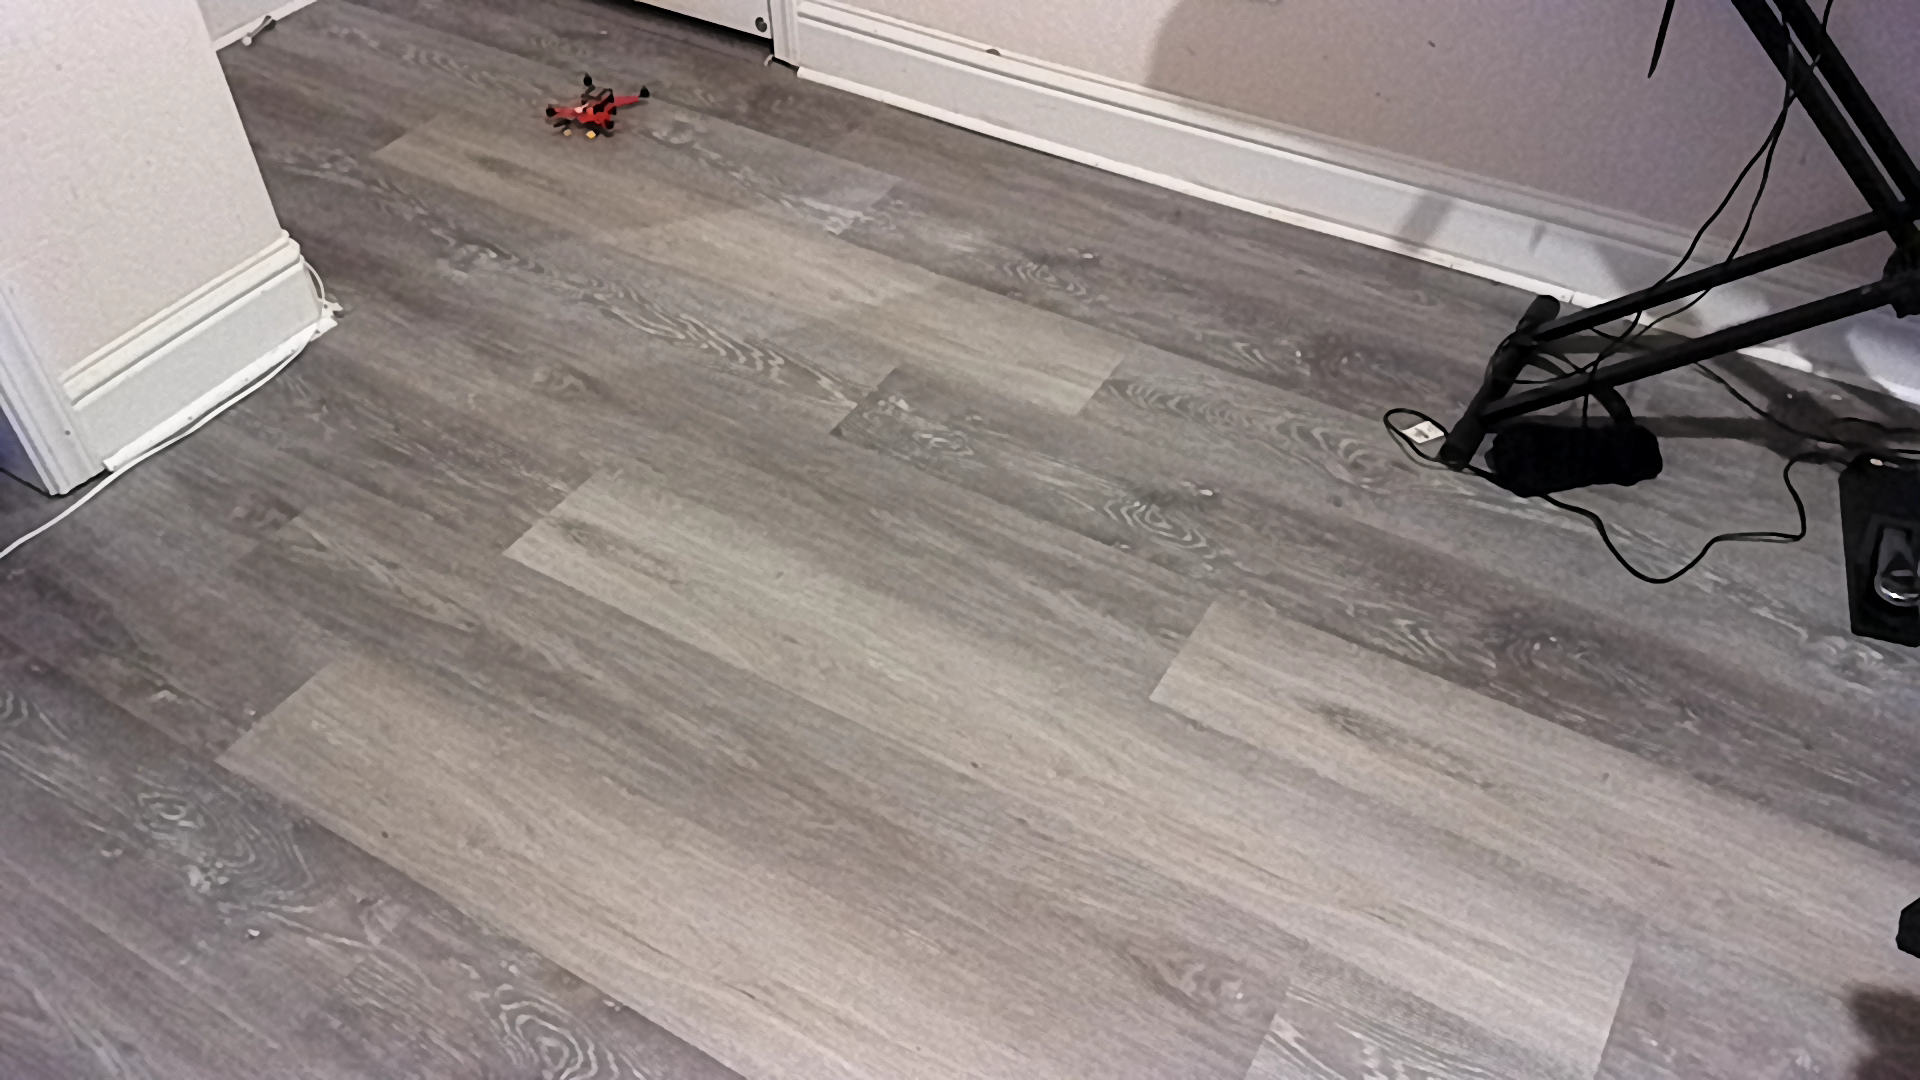drone: (529, 66, 674, 154)
